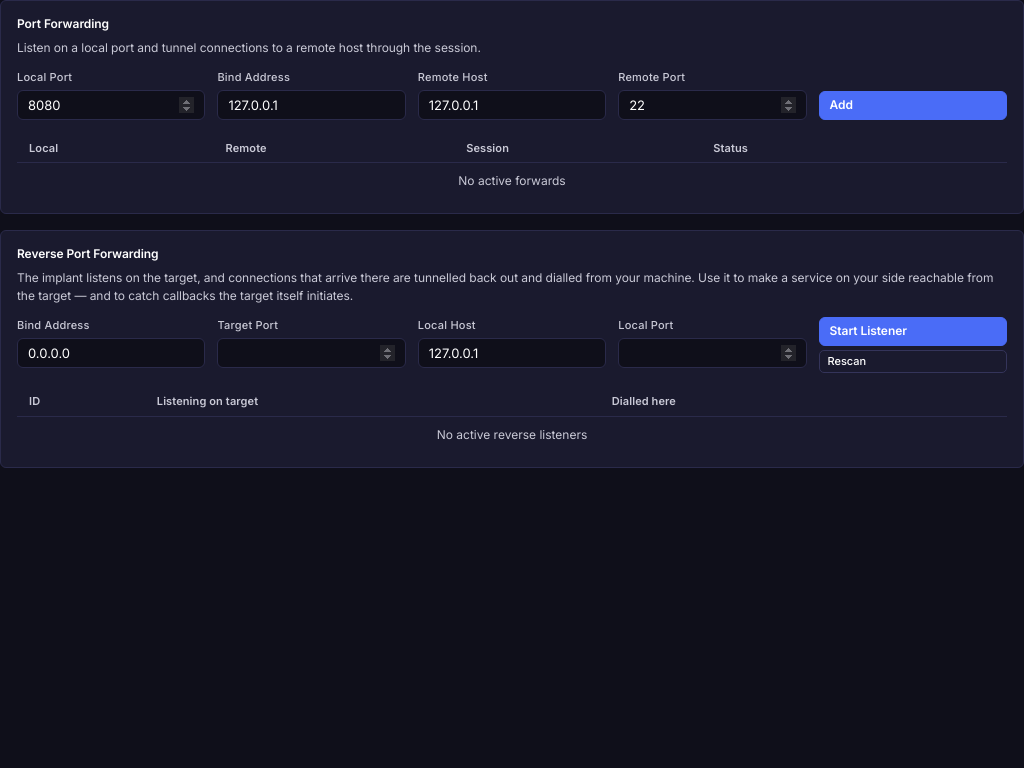
Scenario: PortfwdTab holding both directions › refuses to start a reverse listener without both ports
This screenshot has width=1024, height=768.
Expected: the text "Reverse Port Forwarding" is shown, [17,246,158,261]
What coordinates should you click on to do the following:
click the button "Start Listener"
I would click on:
 (913, 331)
Its box is [819,317,1007,346].
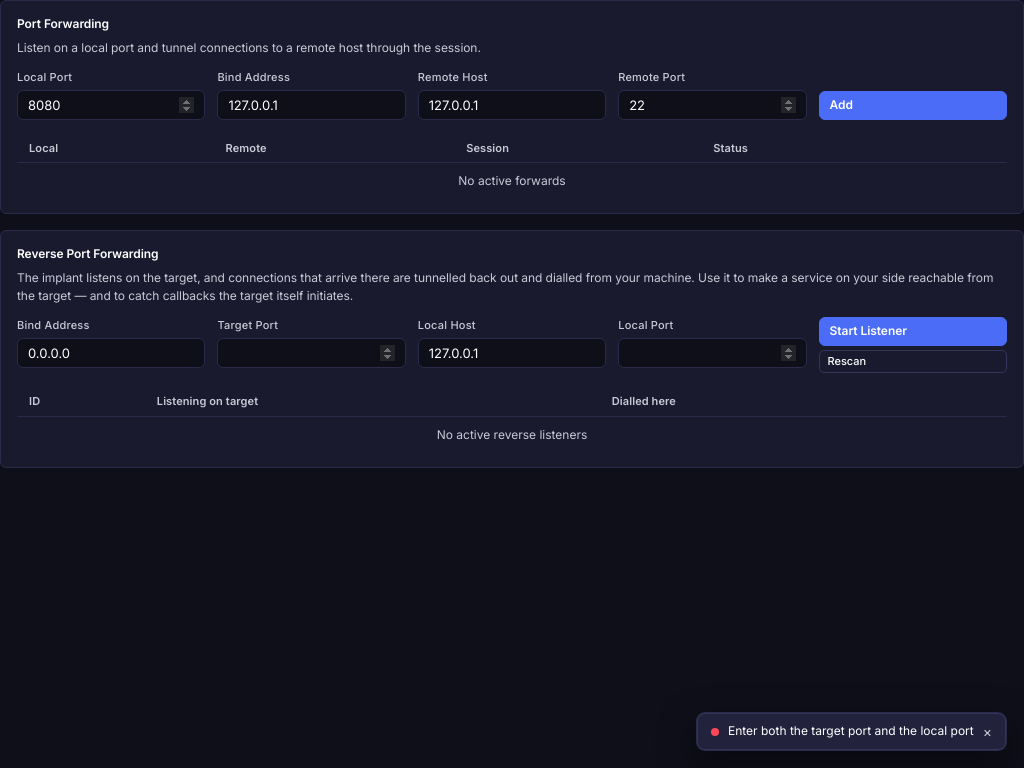
Result: the text "Enter both the target port and the local port" is shown at [728,723,974,740]
